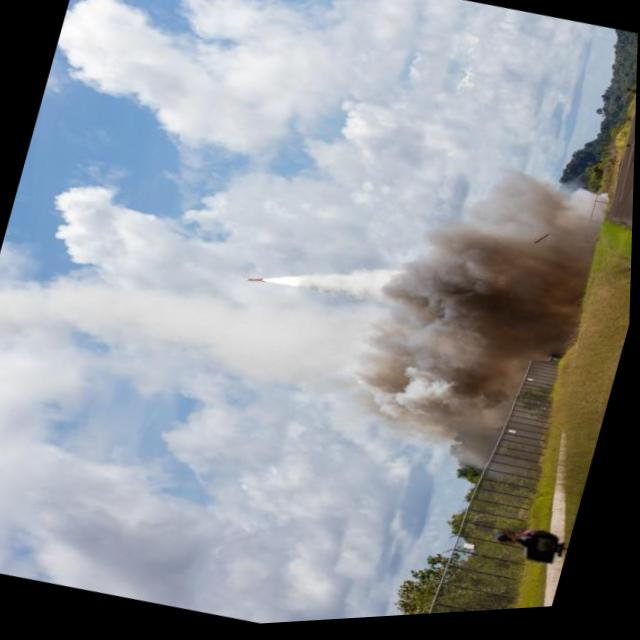missile: (242, 272, 268, 292)
